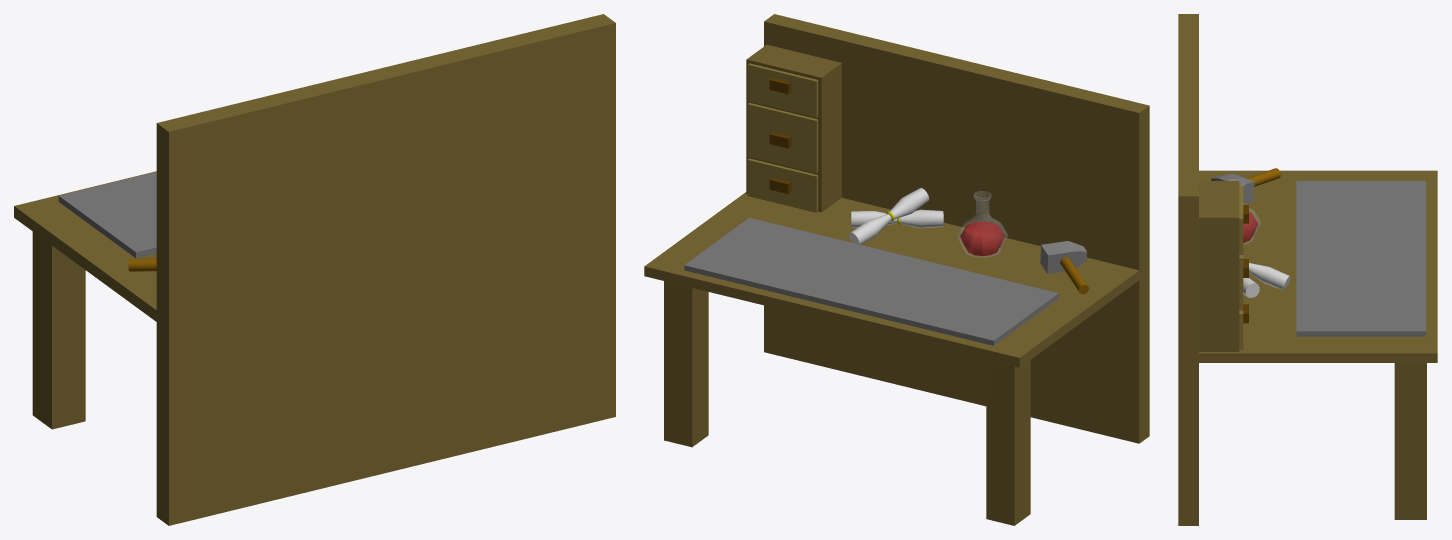
Rendered from workbench.fbx.
3 renders of one model, left to right at view 1: azimuth 30°, elevation 25°; view 2: azimuth 150°, elevation 25°; view 3: azimuth 270°, elevation 25°, orthographic. The views are drawn at different scales.
Visible parts, largest first — view 1: desk2; view 2: desk2; view 3: desk2.
Boxes of the visible parts, x1,y1,x2,y2 form: desk2: [14, 14, 615, 525]; desk2: [644, 14, 1149, 525]; desk2: [1178, 14, 1437, 525].
Size of the model in its own units: 20 by 16.89 by 12.
